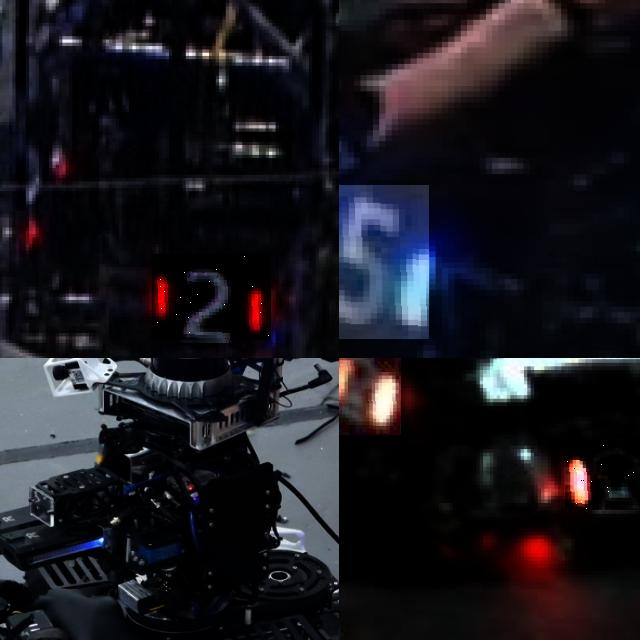B5: (339, 185, 429, 339)
R2: (152, 254, 272, 340)
Rs: (564, 441, 640, 510), (339, 358, 401, 434)
